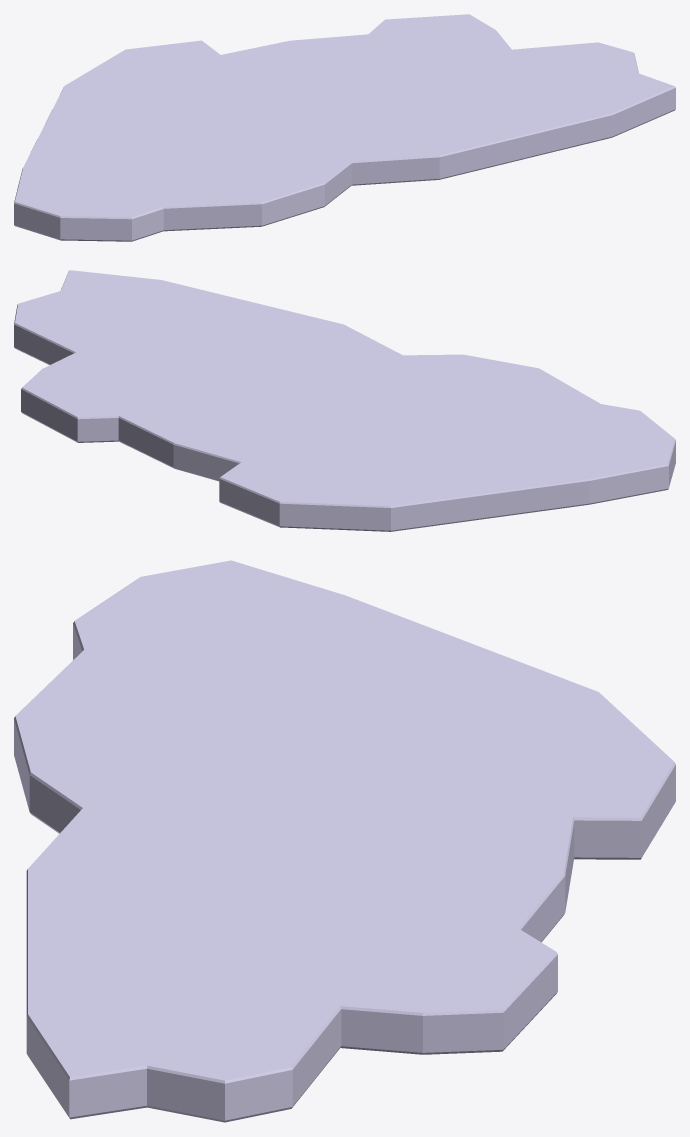
The model's file is BTN.glb.
3 renders of one model, top to bottom at view 1: azimuth 30°, elevation 25°; view 2: azimuth 150°, elevation 25°; view 3: azimuth 270°, elevation 25°, orthographic. The views are drawn at different scales.
Bounding box in the file's own units: 1.81 × 0.068 × 0.9724.
